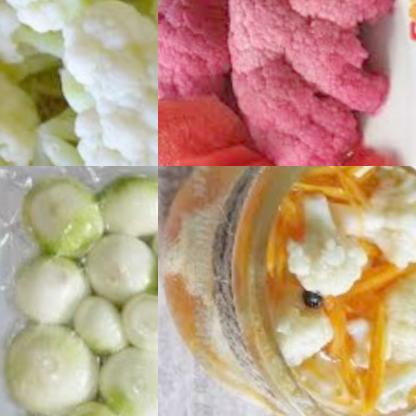carrot: (349, 253, 403, 322), (262, 200, 312, 264), (314, 166, 392, 192)
cayliflower: (220, 0, 399, 166), (0, 0, 158, 166), (158, 0, 255, 110), (284, 178, 371, 296), (365, 254, 416, 400), (352, 168, 416, 262), (271, 307, 342, 373)
onion: (5, 166, 158, 416)
